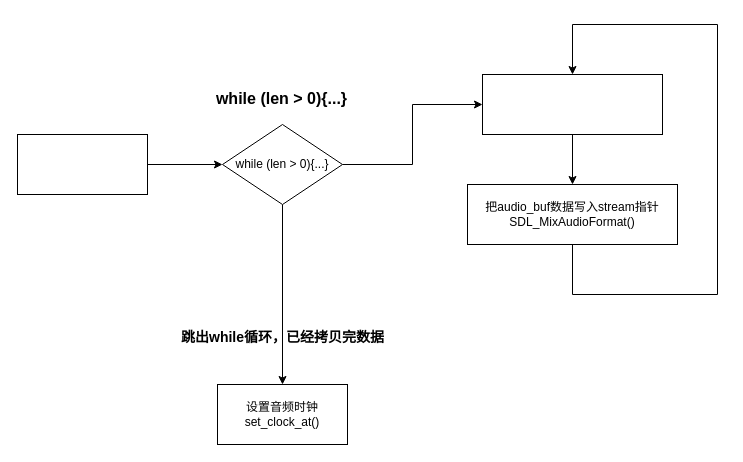
The diagram is 743 pixels wide and 462 high, and some of its shapes have lost their labels. Here are the shapes that lost their labels. From the top down, the box of each, then its label:
(482, 74, 662, 134): 把audio_buf指针指向音频数据 audio_decode_frame()
(16, 134, 148, 194): sdl_audio_callback()
